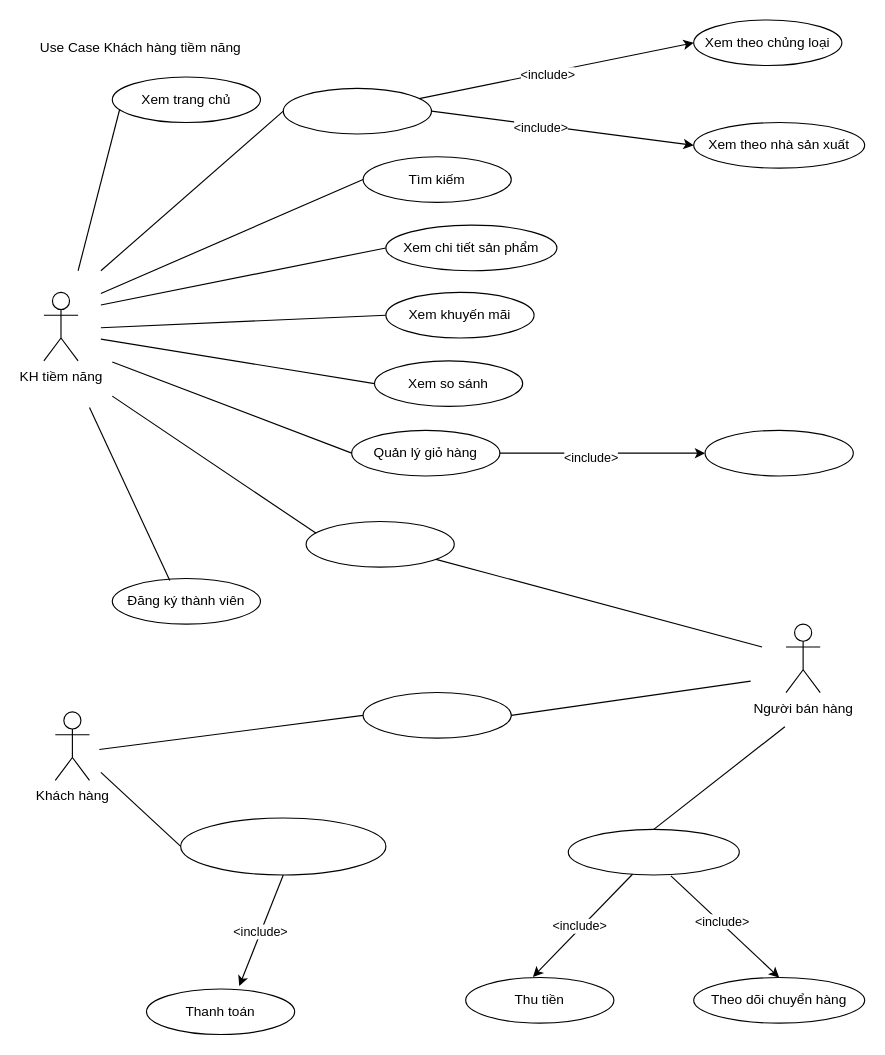
This 885x1055 diagram has some shape labels left out. The shapes that lost their labels are listed below. From the top down, each one's box as (x1, y1, x2, y2) in pixels, then its label:
(282, 87, 431, 134): Xem sản phẩm
(704, 429, 853, 476): Mua hàng
(305, 520, 454, 567): Chat
(362, 691, 511, 738): Đăng nhập
(180, 817, 386, 875): Quản lý đơn hàng cá nhân
(567, 828, 739, 875): Quản lý đơn hàng
